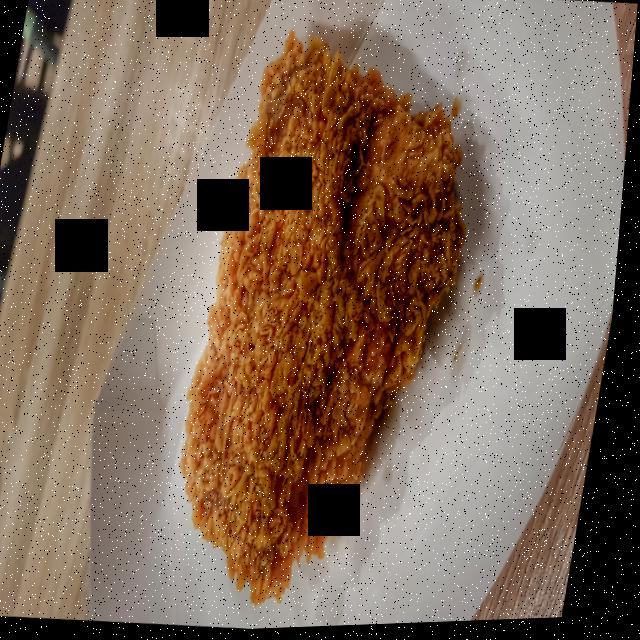Frango: (162, 22, 500, 617)
